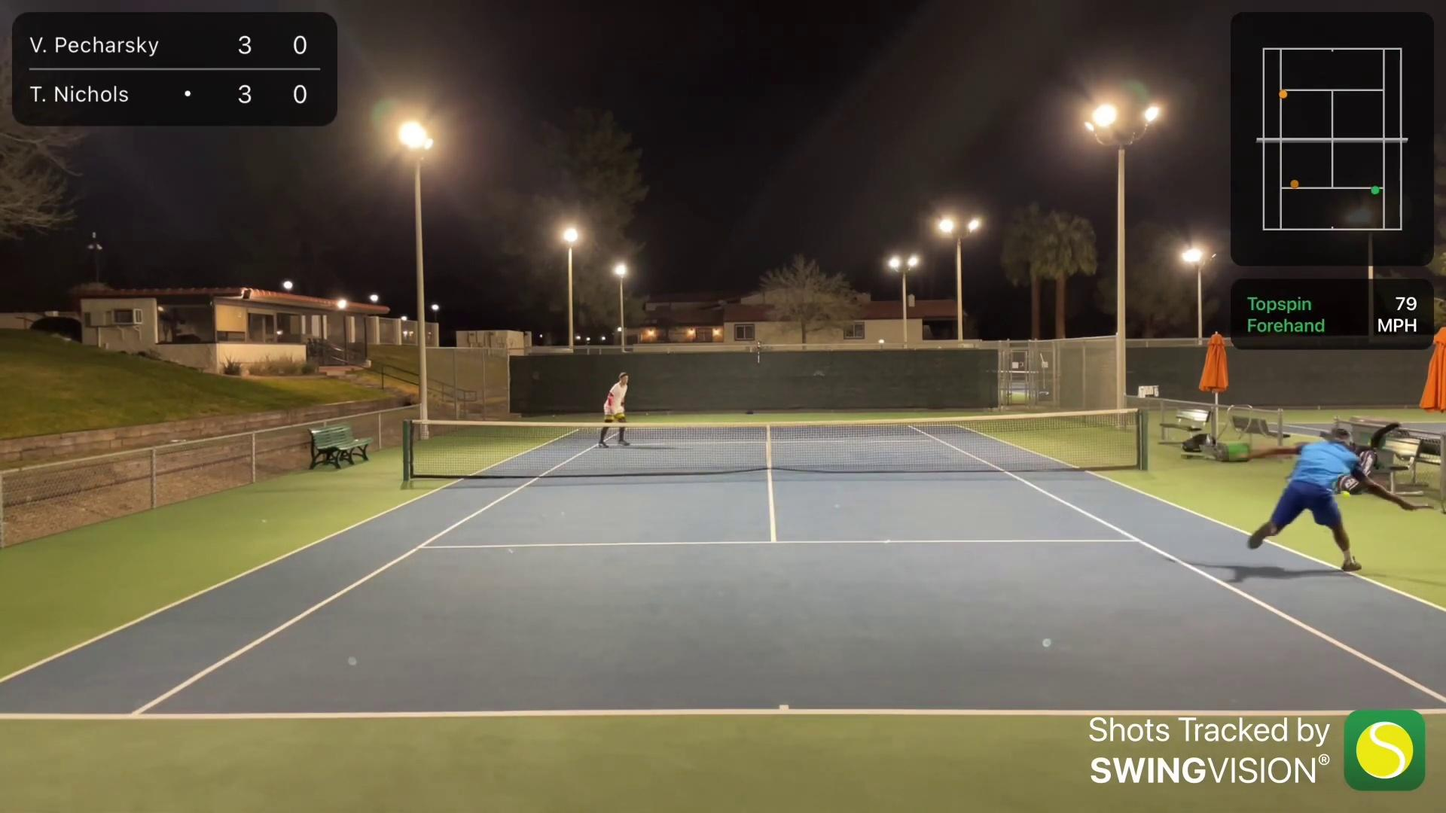ball: (1339, 485, 1355, 500)
